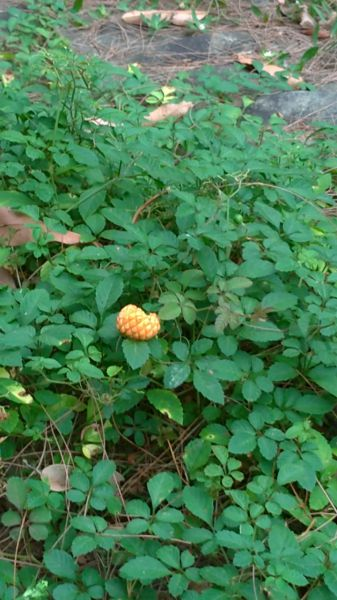eggs: (111, 303, 165, 344)
